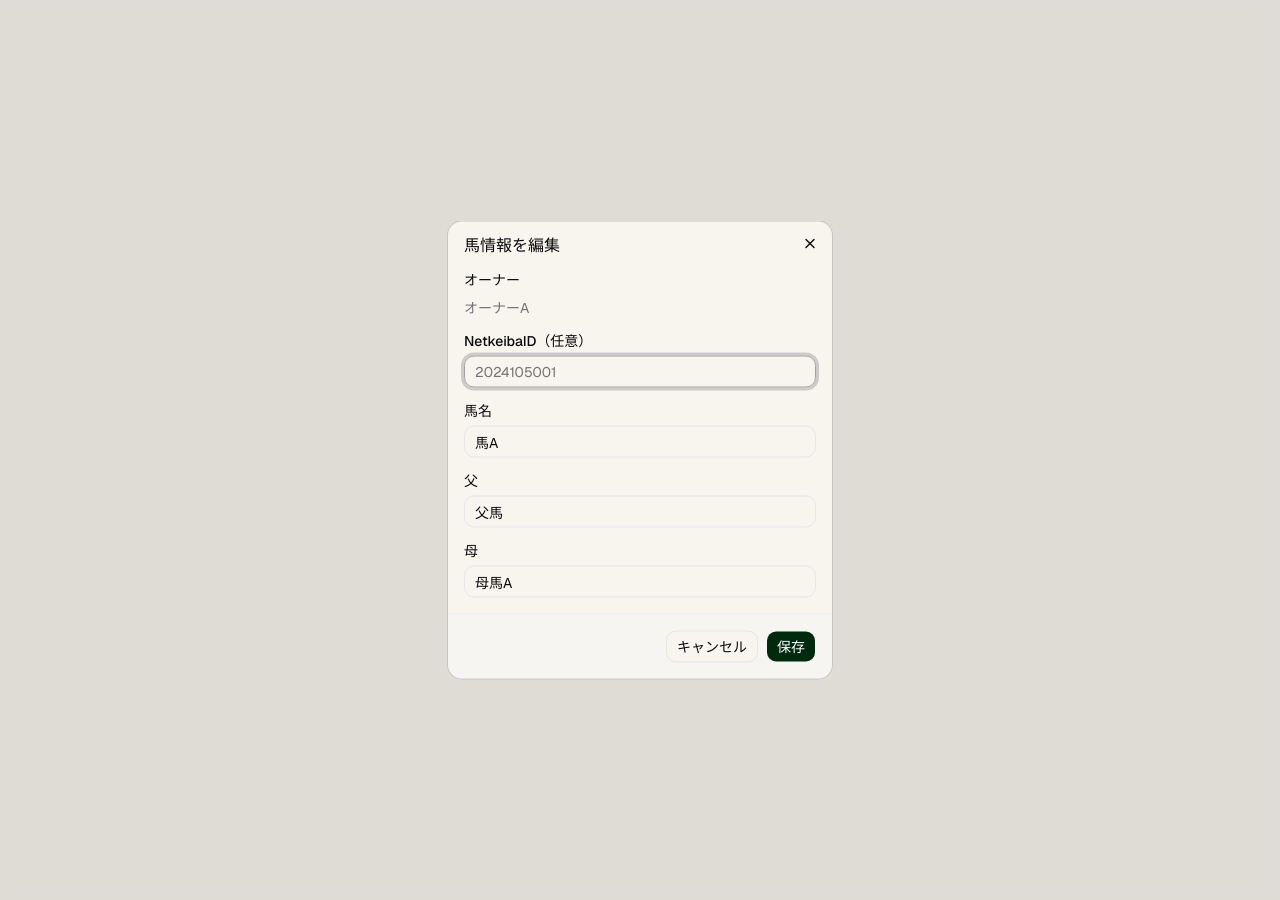
Scenario: HorseEditDialog › open 時点のスナップショットにある馬名は重複エラーになる
# '馬B' はスナップショット時点で存在しているため重複エラーになる
Replace the text in the field showing "馬A" with "馬B" at [640, 442], box [464,426,816,458]
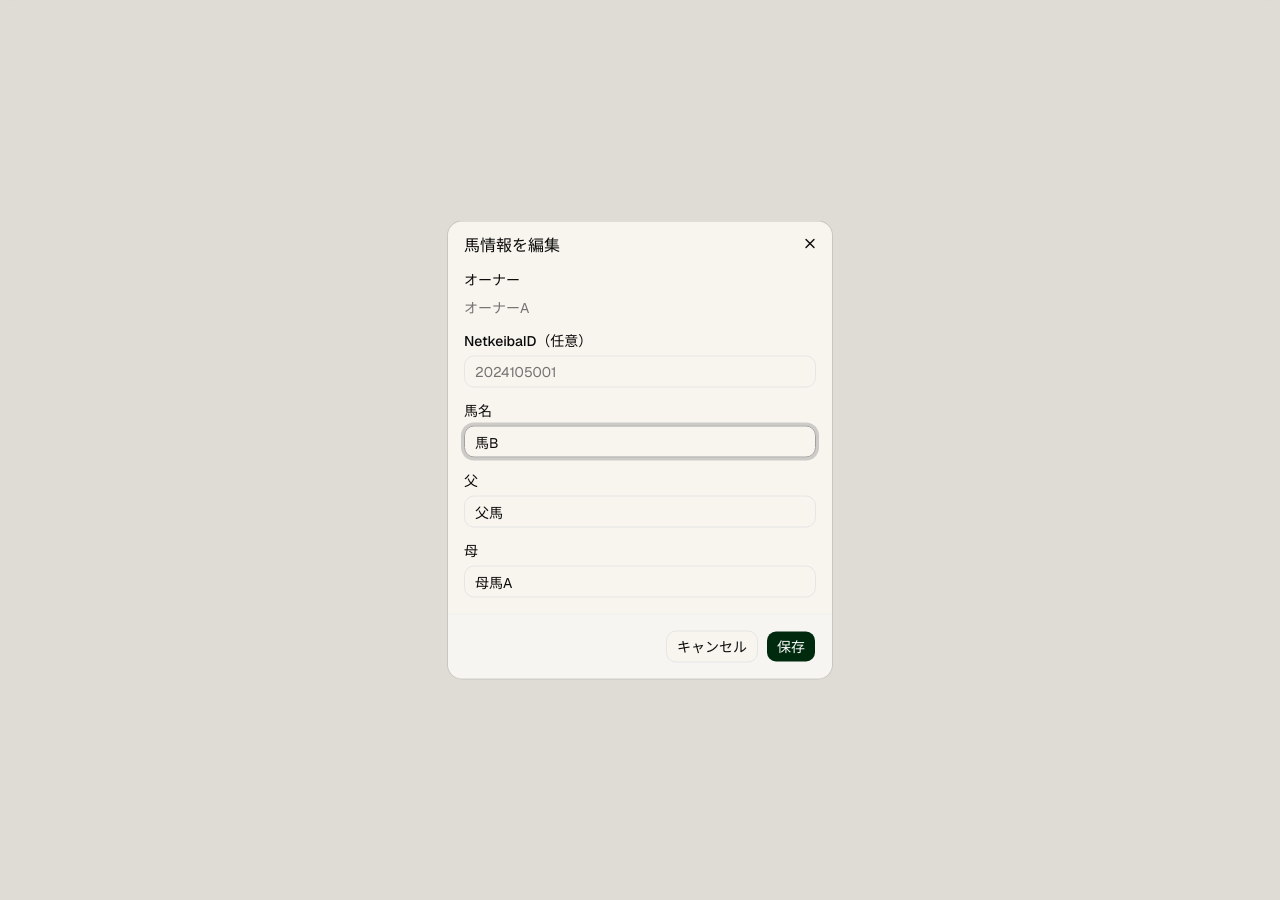
Click the button "保存" at [791, 646], box [766,630,816,662]
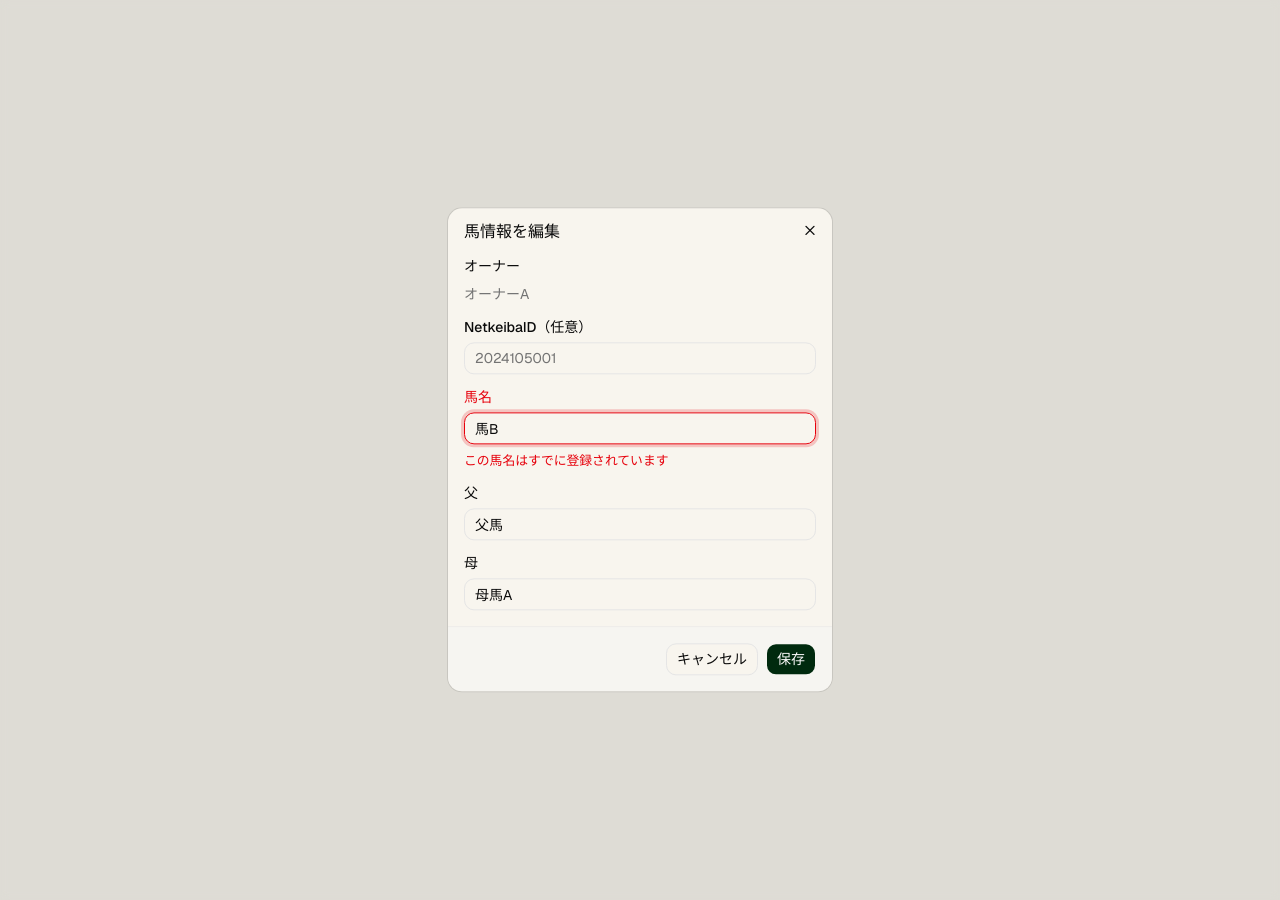
expect the text "この馬名はすでに登録されています" is shown: met, box [464,452,668,469]
